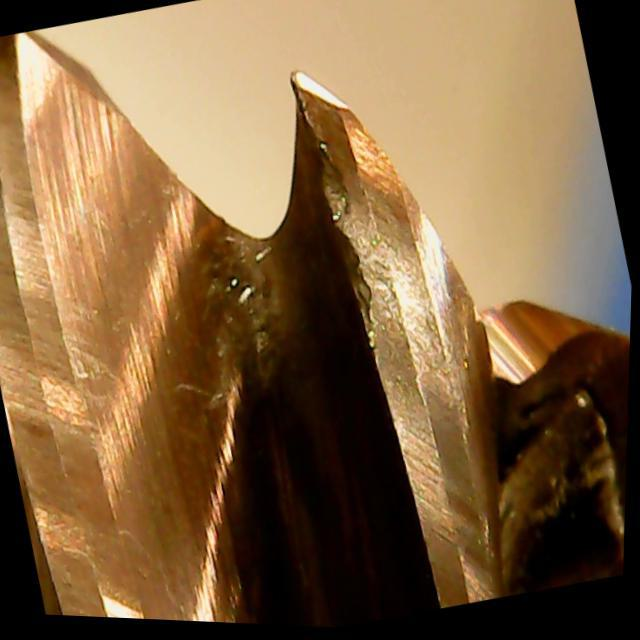Tool-wear-class-1: (258, 25, 473, 344)
